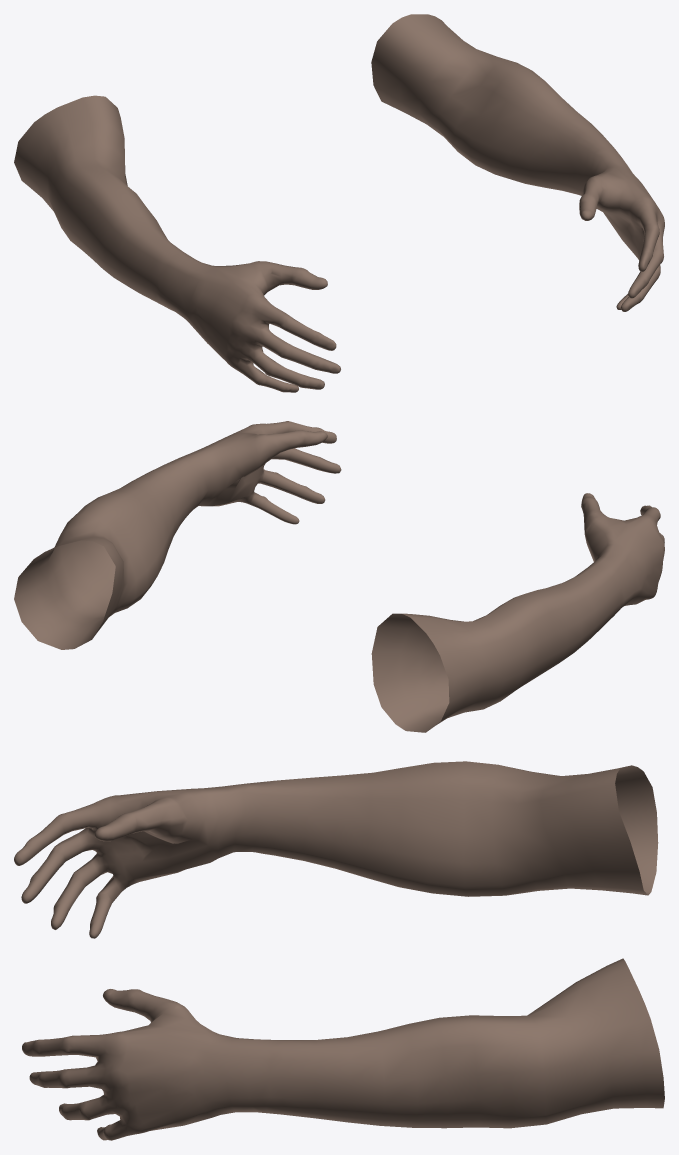
Rendered from Brazos_separados.fbx.
3 renders of one model, top to bottom at view 1: azimuth 30°, elevation 25°; view 2: azimuth 150°, elevation 25°; view 3: azimuth 270°, elevation 25°, orthographic. The views are drawn at different scales.
Visible parts, largest first — view 1: brazo_derecho, brazo izquierdo; view 2: brazo_derecho, brazo izquierdo; view 3: brazo_derecho, brazo izquierdo.
Boxes of the visible parts, <box> form: brazo_derecho: <box>14,95,340,392</box>; brazo izquierdo: <box>371,14,664,311</box>; brazo_derecho: <box>371,493,664,732</box>; brazo izquierdo: <box>14,421,341,649</box>; brazo_derecho: <box>14,761,658,938</box>; brazo izquierdo: <box>22,958,664,1140</box>.
Bounding box in the file's own units: 93.52 × 25.8 × 88.74.
